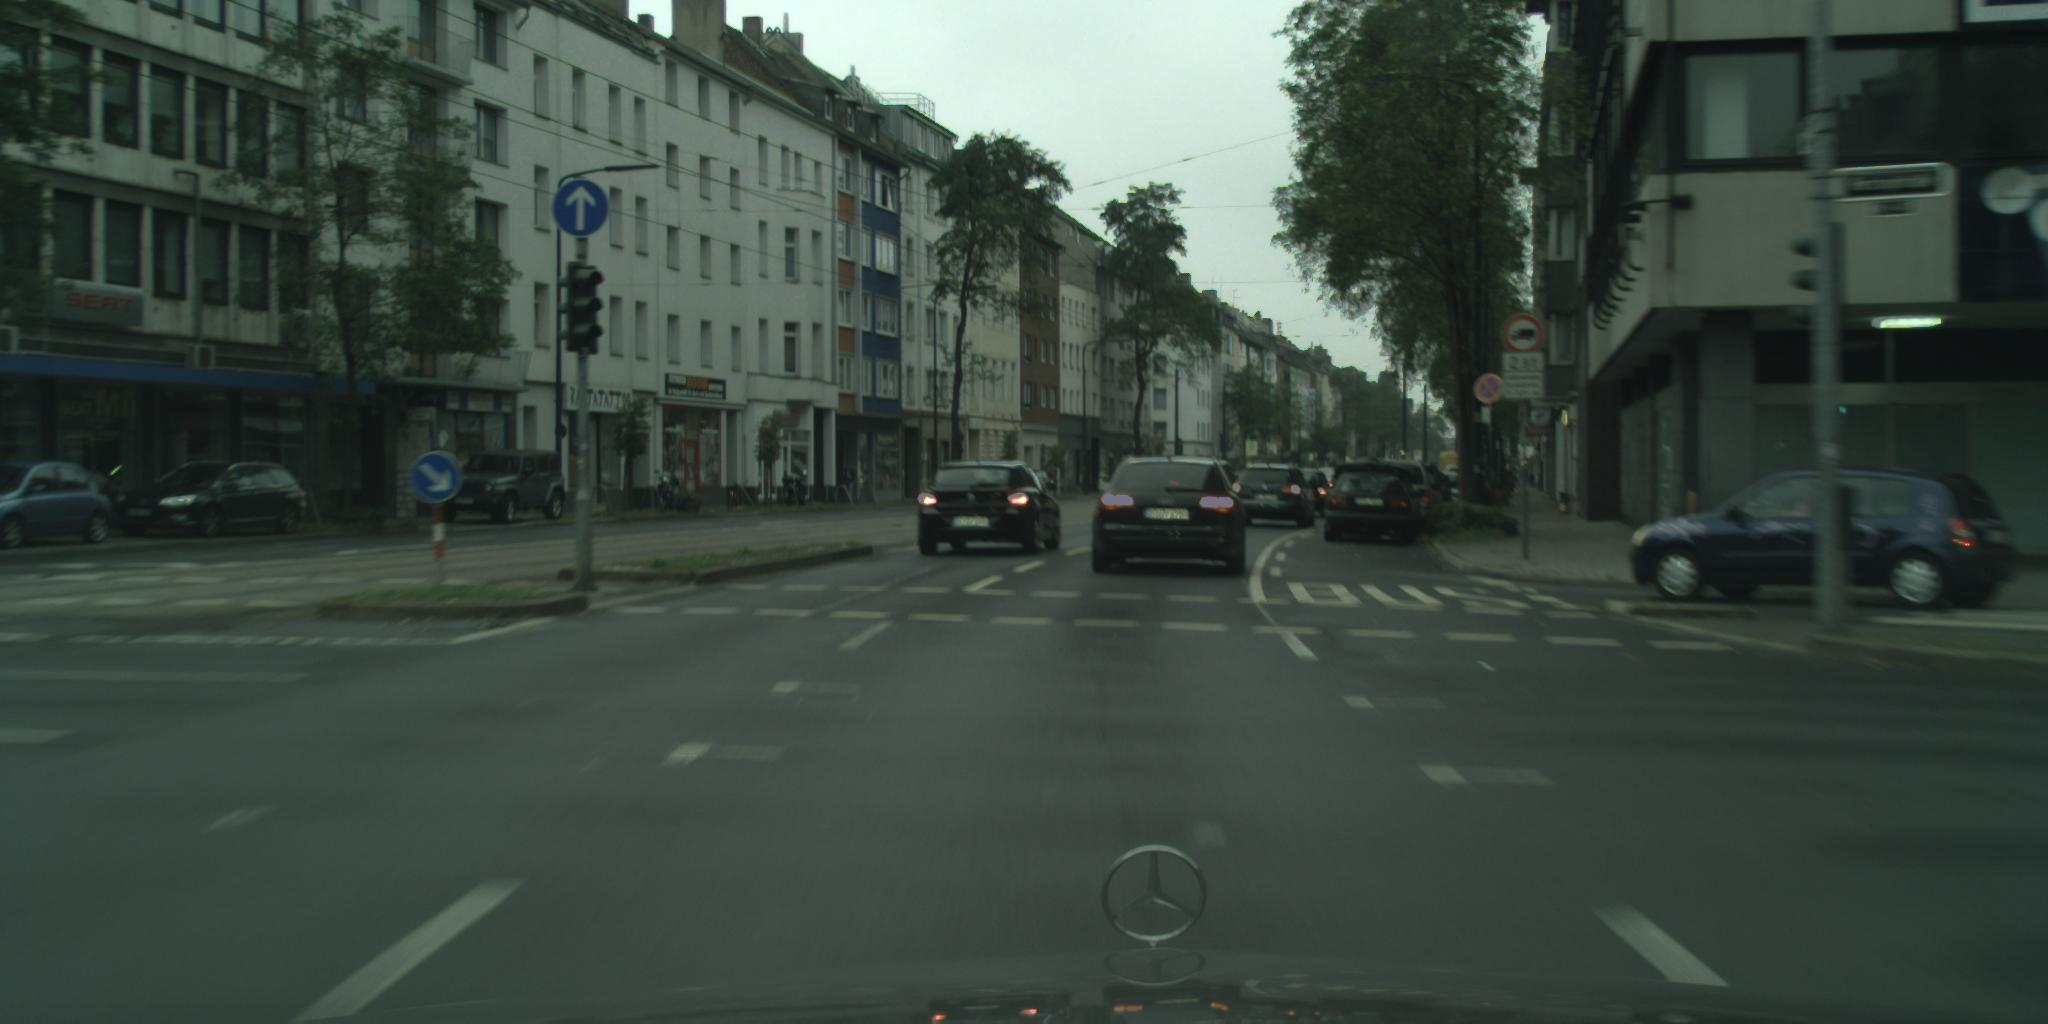car: (1627, 465, 2022, 610), (1092, 455, 1255, 579), (116, 461, 310, 539), (920, 461, 1063, 558), (1, 460, 118, 551), (439, 449, 566, 526), (1323, 469, 1426, 545), (1233, 462, 1319, 529), (1213, 458, 1246, 495), (1021, 470, 1061, 495)
motorcycle: (657, 472, 680, 511), (784, 470, 808, 507)
